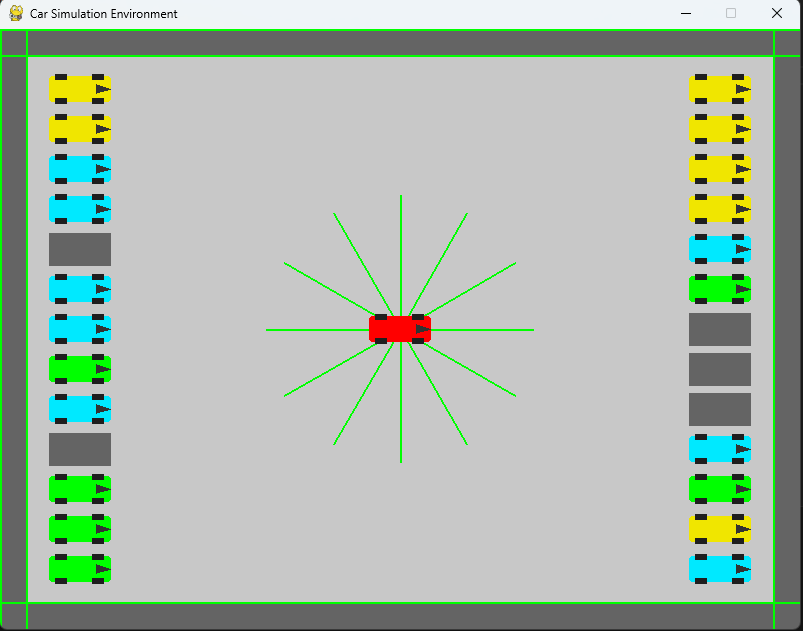ControlledCar: (363, 306, 446, 356)
ParkedCar: (43, 268, 128, 312), (678, 507, 755, 547), (45, 552, 122, 590), (40, 69, 114, 108), (686, 472, 754, 514), (682, 106, 753, 146), (680, 67, 752, 105), (42, 194, 122, 228), (689, 429, 752, 472), (685, 150, 754, 187), (685, 552, 754, 589), (43, 112, 118, 146), (45, 471, 112, 508), (50, 391, 114, 429), (47, 151, 114, 187), (687, 231, 752, 268), (47, 313, 115, 346), (685, 194, 754, 226), (50, 513, 110, 547), (48, 355, 114, 385), (686, 275, 752, 304)
ParkingSpot: (678, 345, 760, 389), (679, 393, 759, 427), (685, 310, 754, 349), (45, 231, 117, 268), (46, 431, 114, 468)
